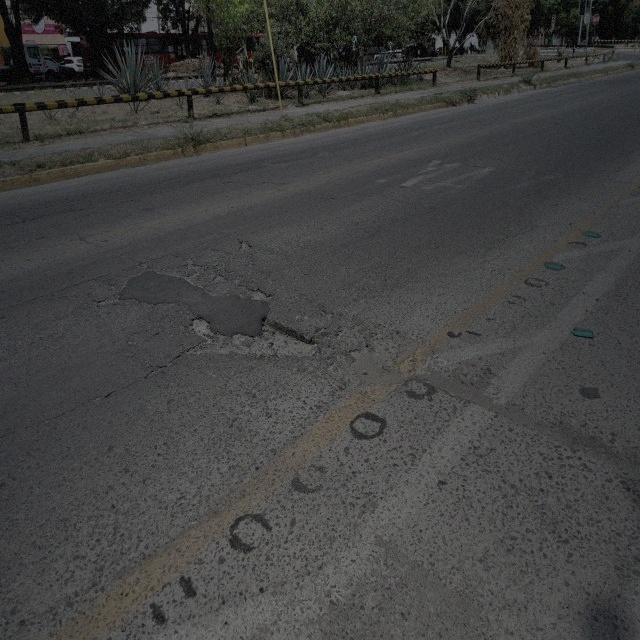pothole: (229, 317, 316, 360), (190, 316, 214, 341), (247, 283, 272, 304), (212, 274, 227, 284), (240, 239, 250, 250)
